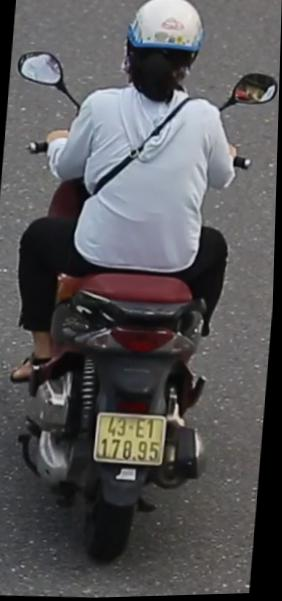LP: (92, 408, 174, 474)
helmet: (124, 0, 209, 74)
